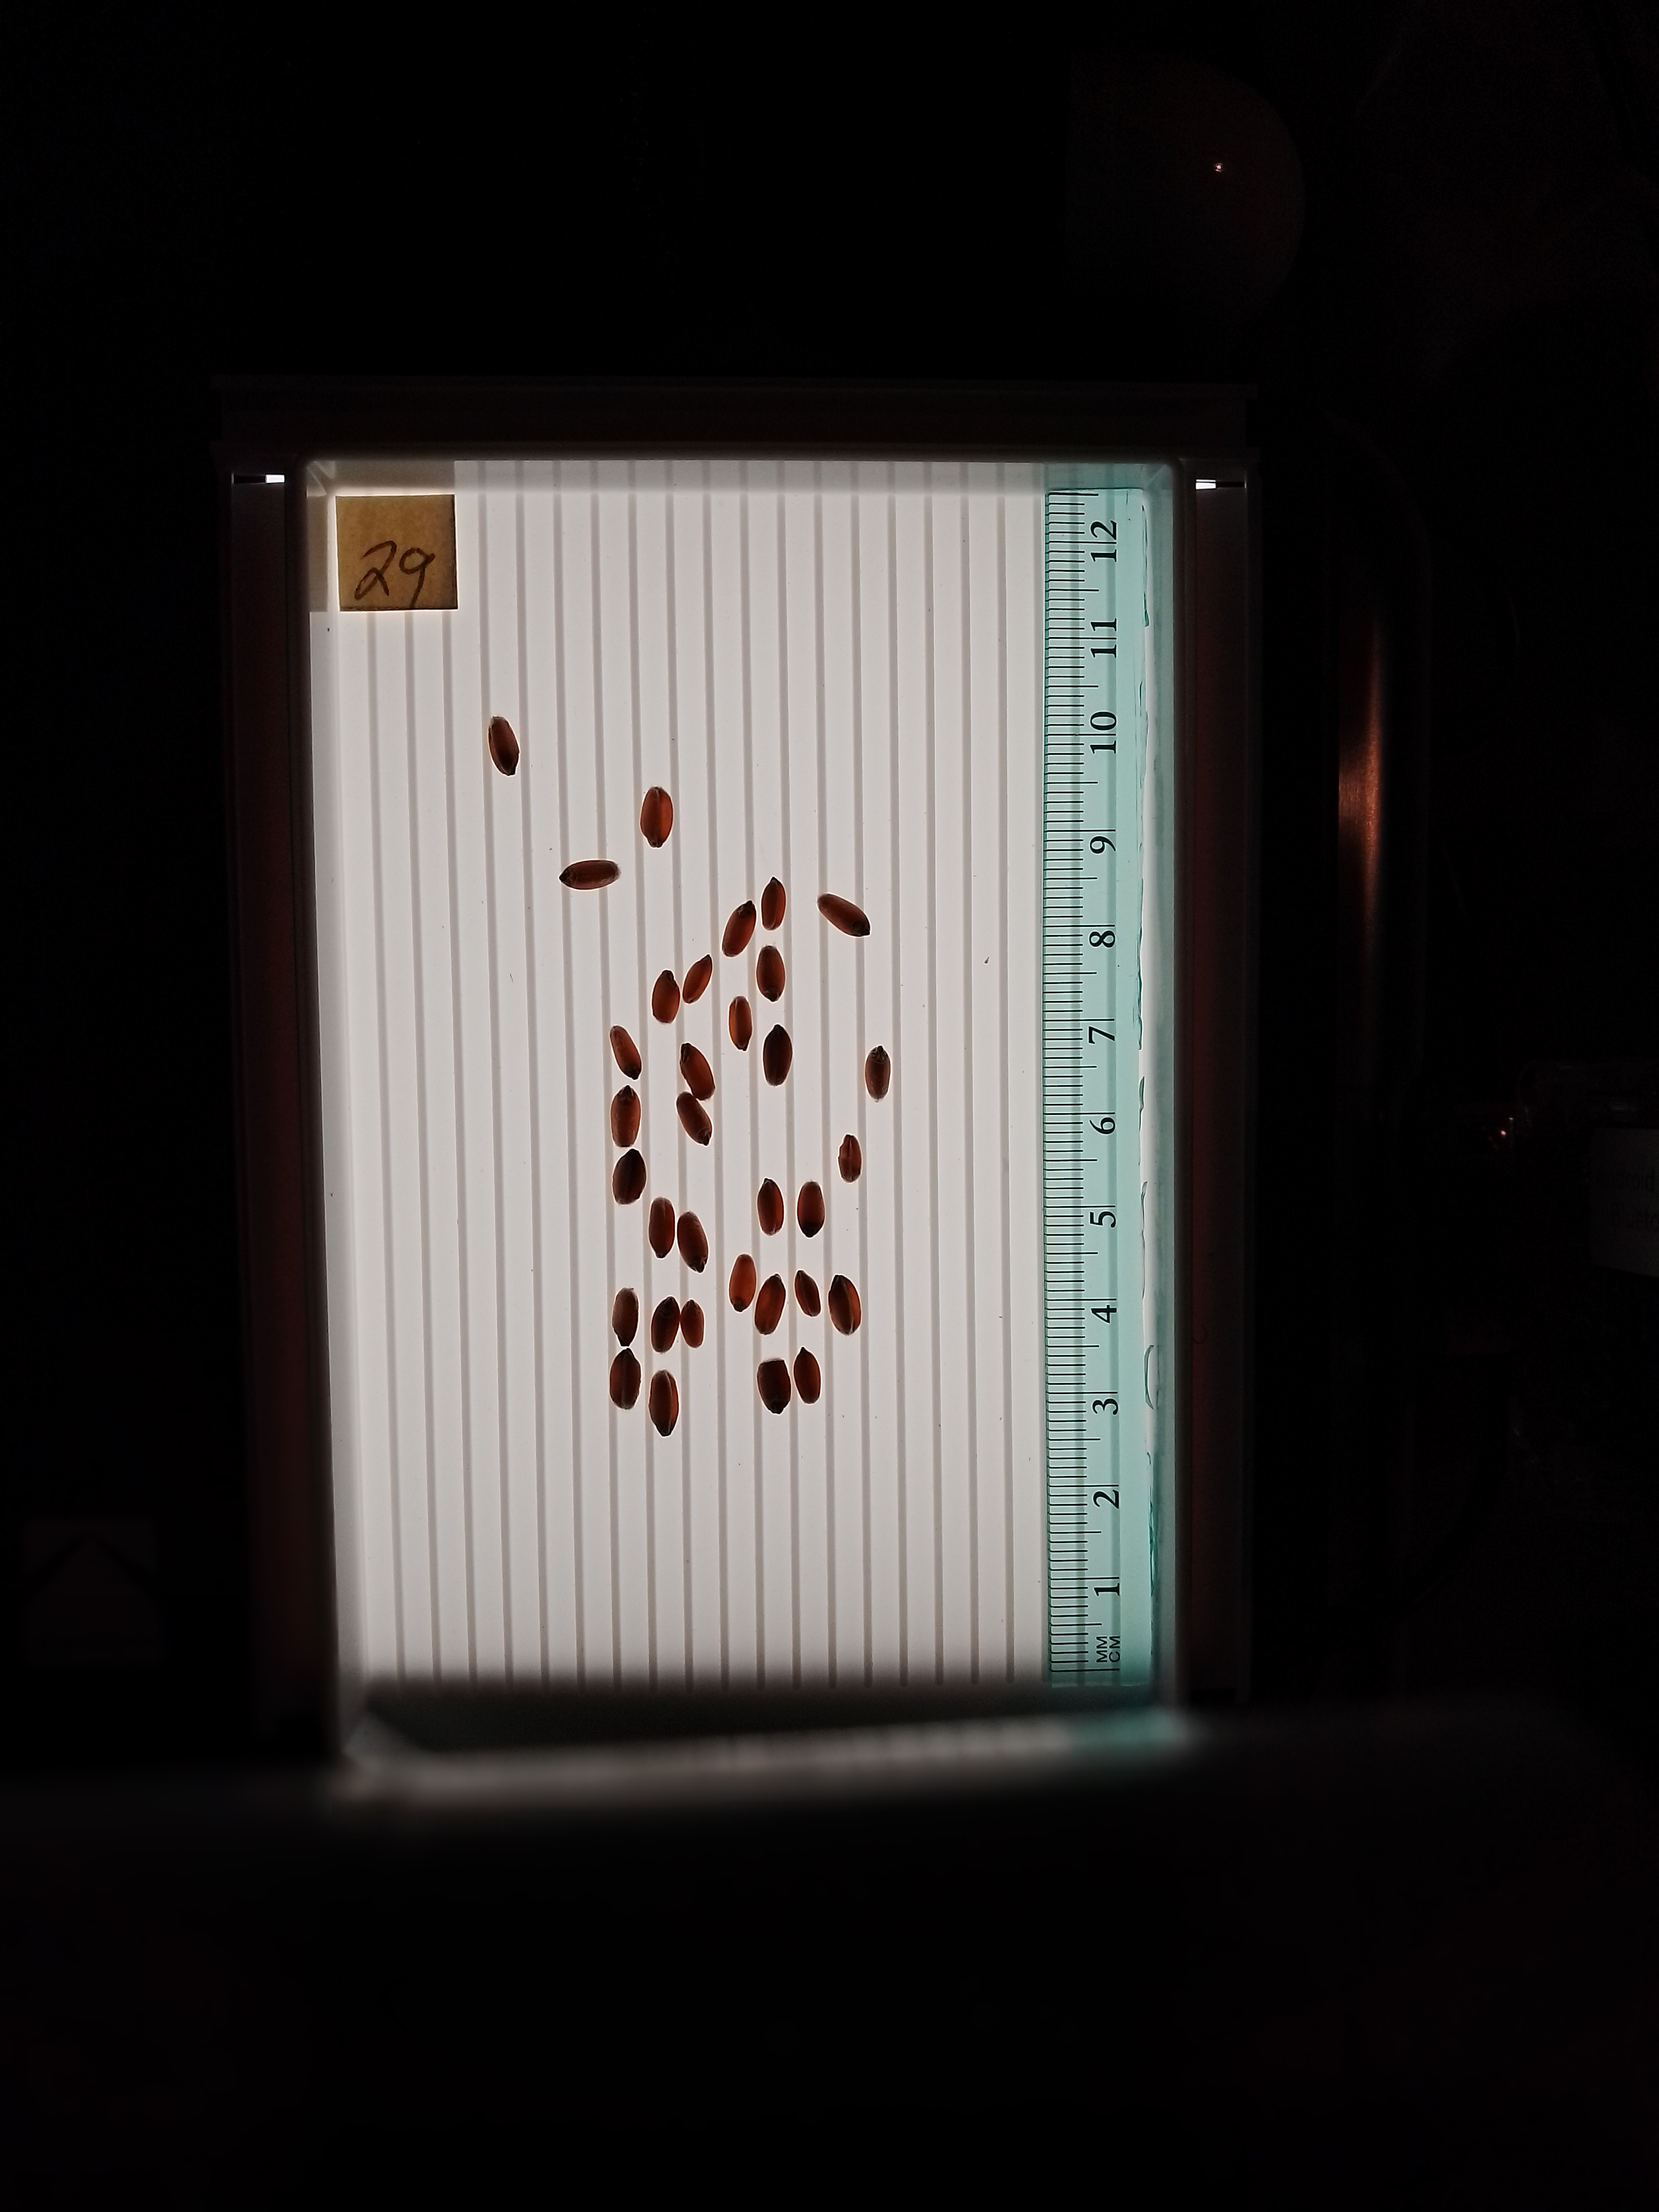seed mask: (816, 894, 873, 937), (679, 1041, 717, 1098), (486, 716, 521, 775), (649, 1370, 679, 1437), (753, 1275, 787, 1334), (558, 859, 622, 890), (608, 1348, 640, 1408), (675, 1212, 709, 1270), (612, 1149, 648, 1204), (756, 1358, 790, 1415), (828, 1275, 861, 1334), (640, 786, 672, 846), (609, 1085, 640, 1147), (676, 1092, 711, 1145), (609, 1023, 642, 1080), (722, 901, 755, 957), (761, 1026, 791, 1087), (649, 1297, 680, 1353), (728, 1254, 757, 1313), (756, 946, 786, 1002), (757, 1177, 784, 1237), (611, 1288, 638, 1347), (797, 1181, 824, 1238), (650, 1197, 675, 1257), (651, 972, 680, 1022), (795, 1348, 821, 1404), (867, 1046, 892, 1102), (684, 954, 712, 1003), (728, 996, 754, 1050), (761, 878, 786, 930), (796, 1269, 821, 1317), (680, 1301, 706, 1348), (838, 1135, 862, 1183)
